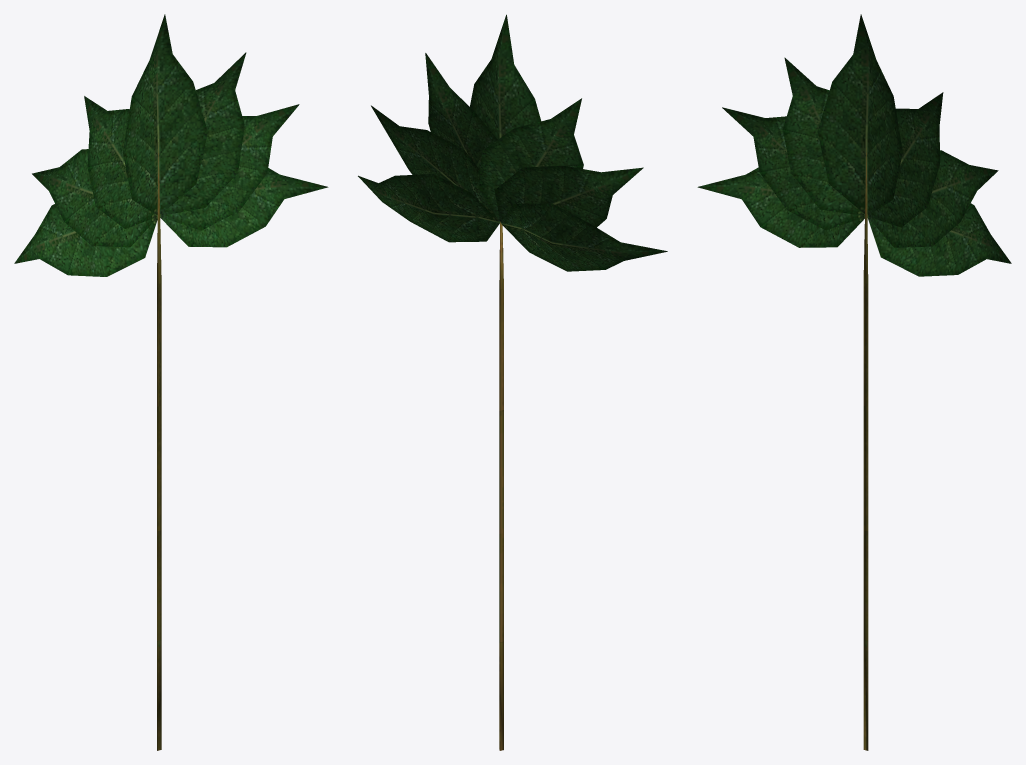
Rendered from eqp_palm_frond_l0.fbx.
The picture shows the model from 3 angles, left to right: view 1: azimuth 30°, elevation 25°; view 2: azimuth 150°, elevation 25°; view 3: azimuth 330°, elevation 25°; orthographic projection.
Parts seen in each view (by area): view 1: mesh_node; view 2: mesh_node; view 3: mesh_node.
Part boxes in pixels (x1=…): mesh_node: x1=14, y1=14, x2=328, y2=750; mesh_node: x1=358, y1=14, x2=667, y2=750; mesh_node: x1=697, y1=14, x2=1011, y2=750.
Size of the model in its own units: 1.18 by 2.66 by 0.1483.
1 material, 1 textured.
